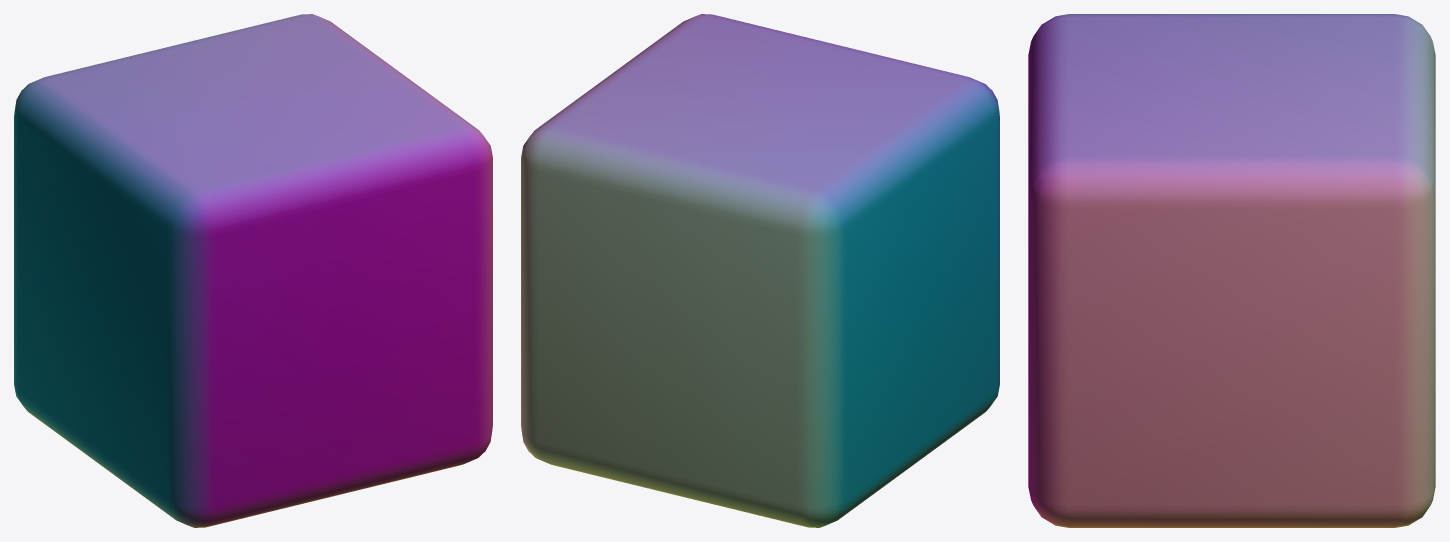
Rendered from Roundcube.fbx.
3 renders of one model, left to right at view 1: azimuth 30°, elevation 25°; view 2: azimuth 150°, elevation 25°; view 3: azimuth 270°, elevation 25°, orthographic. The views are drawn at different scales.
Parts seen in each view (by area): view 1: Roundcube; view 2: Roundcube; view 3: Roundcube.
Boxes of the visible parts, <box> form: Roundcube: <box>14,14,492,527</box>; Roundcube: <box>521,14,999,527</box>; Roundcube: <box>1028,14,1435,527</box>.
Bounding box in the file's own units: 200 × 200 × 200.
